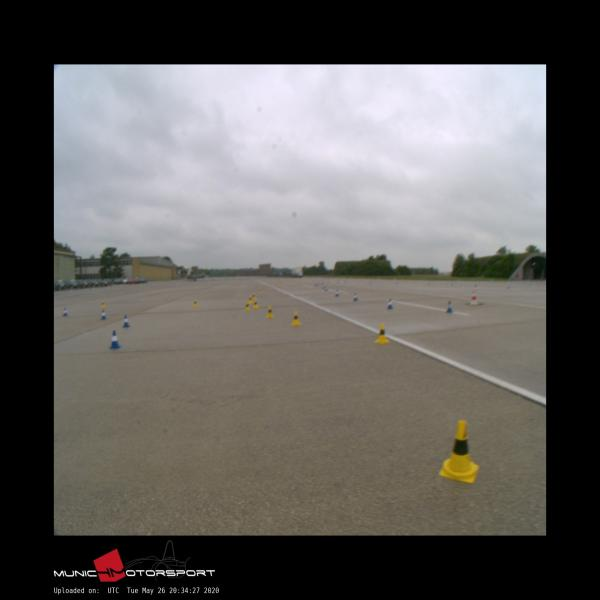blue_cone: (108, 330, 120, 347), (446, 300, 453, 312), (122, 315, 129, 326), (100, 309, 106, 320), (387, 298, 393, 308), (62, 308, 68, 316), (353, 293, 359, 301)
yellow_cone: (439, 420, 479, 483), (375, 322, 390, 343), (290, 311, 300, 325), (265, 305, 273, 318), (253, 299, 259, 308), (244, 302, 250, 310), (193, 299, 198, 307), (248, 296, 253, 303), (101, 300, 105, 308)
